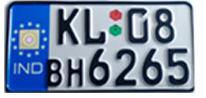0: (125, 7, 151, 44)
2: (115, 48, 137, 87)
5: (166, 47, 190, 85)
6: (141, 48, 165, 86), (88, 47, 111, 86)
8: (153, 8, 175, 44)
B: (46, 58, 64, 87)
H: (67, 57, 86, 88)
K: (56, 8, 83, 46)
L: (82, 8, 108, 46)
